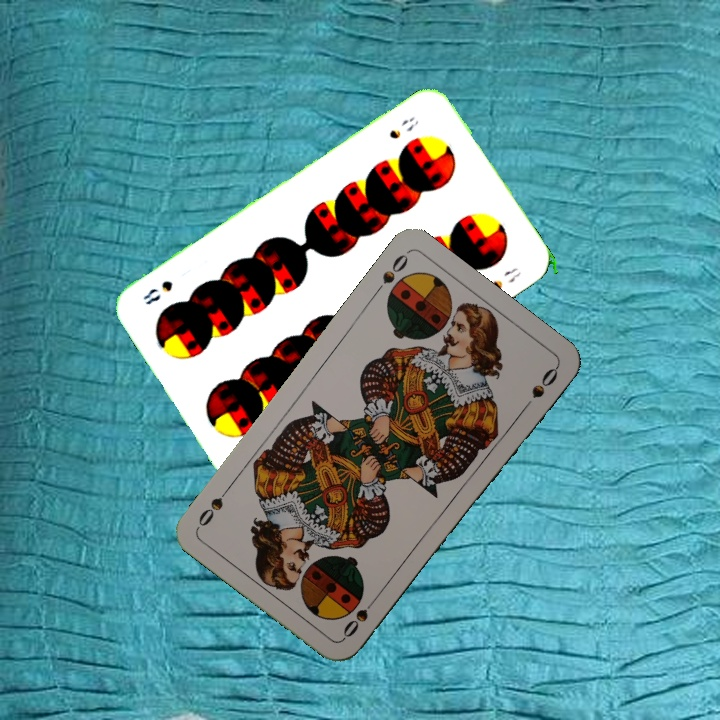S8: (385, 111, 422, 142)
SO: (338, 591, 382, 641), (369, 250, 411, 299)
